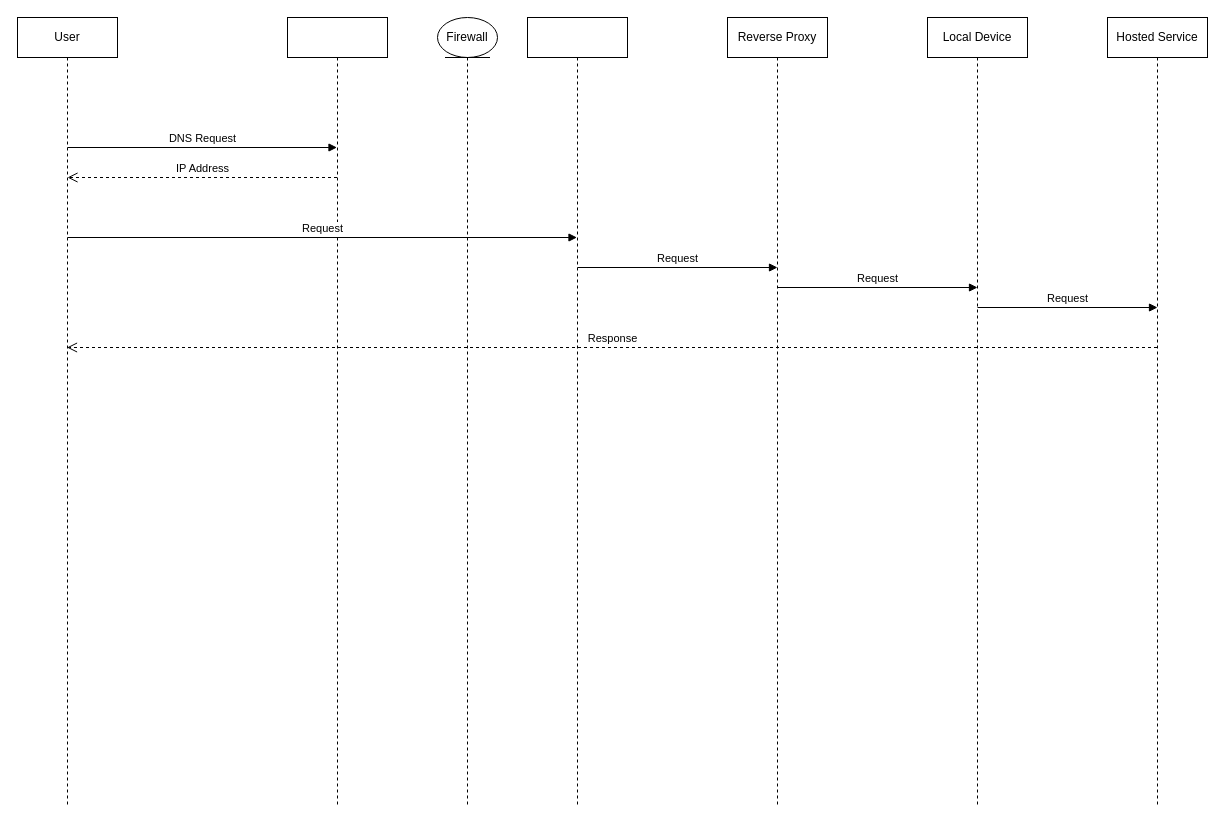
Image size: 1225x825. Some labels were removed from this diagram. The shapes that lost their labels are listed below. From the top down, each one's box as (x1, y1, x2, y2) in pixels, then its label:
(286, 16, 388, 808): AWS Dns
(526, 16, 628, 808): Local Network
